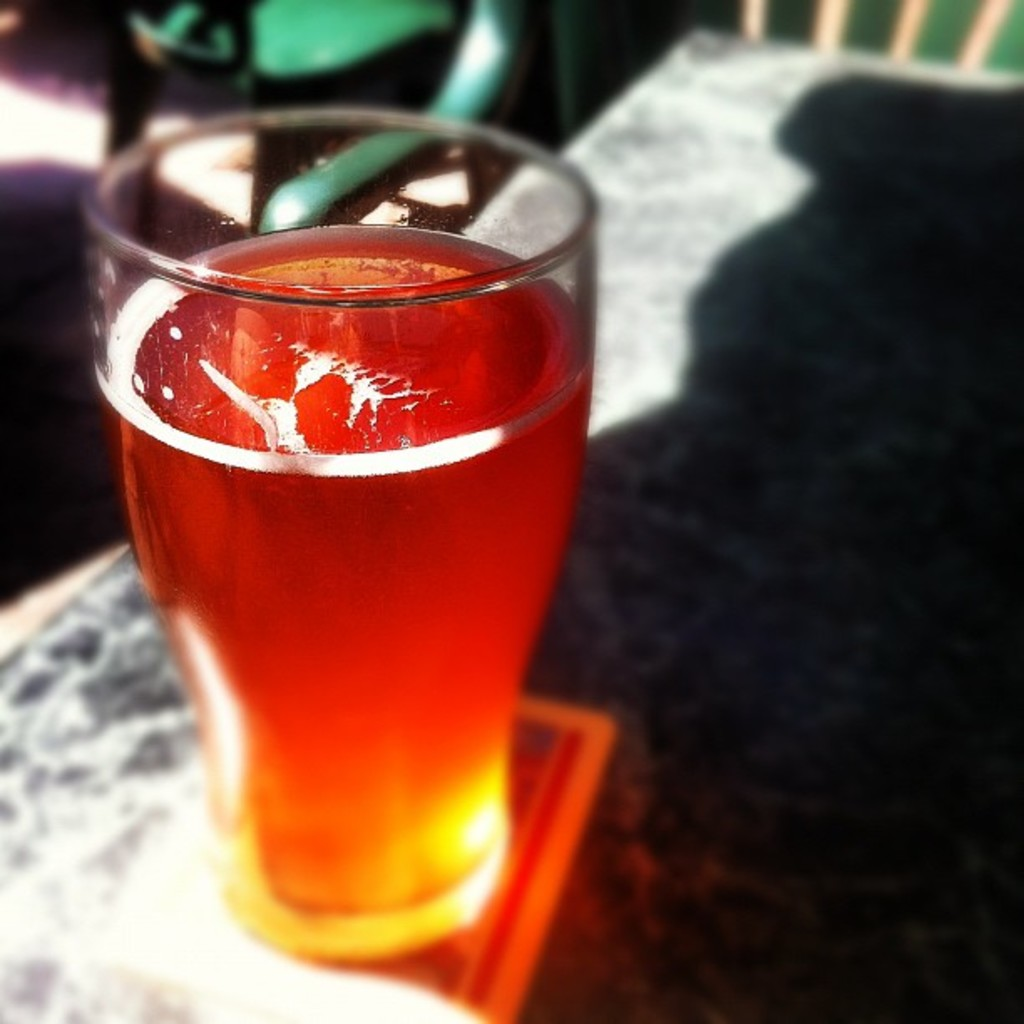Beer: (107, 224, 590, 970)
